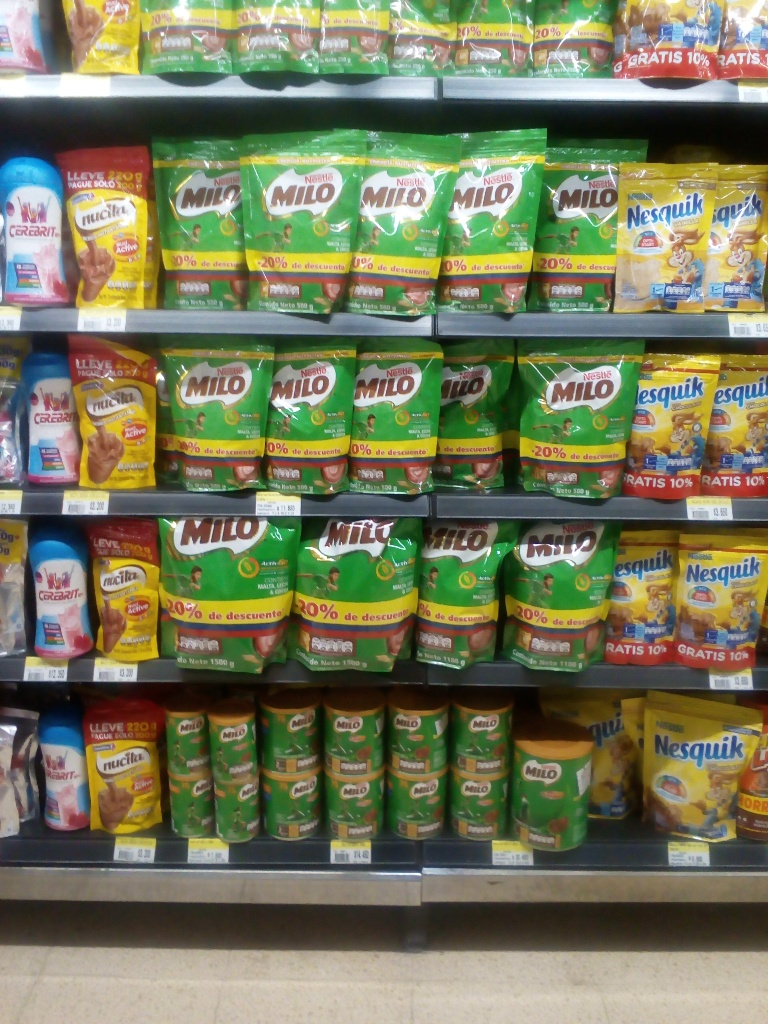COL0170203LAT20000: (211, 777, 265, 846)
COL0170203LAT40000: (448, 769, 511, 842)
COL0170303DYP20000: (646, 690, 759, 843)
COL0170306DYP20000: (613, 159, 713, 318)
